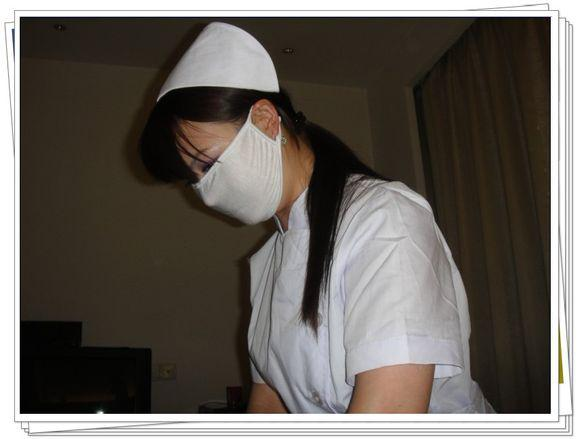OK: (186, 104, 290, 228)
